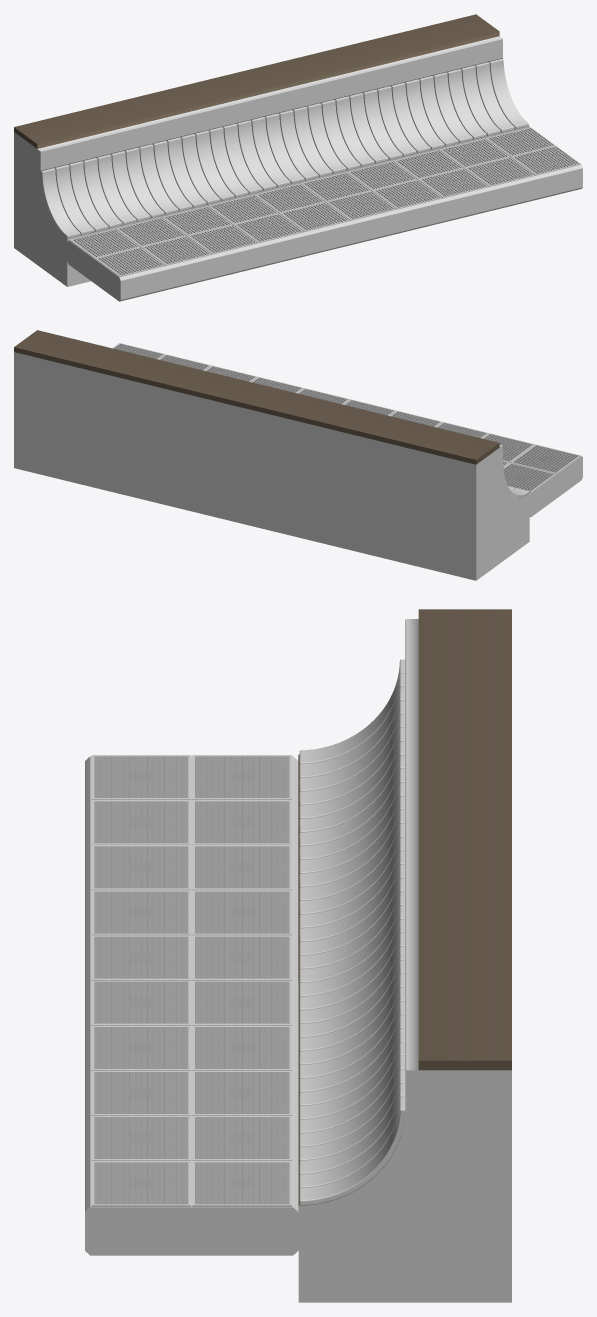
File: Tile_InnerCurve_B.FBX
3 renders of one model, top to bottom at view 1: azimuth 30°, elevation 25°; view 2: azimuth 150°, elevation 25°; view 3: azimuth 270°, elevation 25°, orthographic. The views are drawn at different scales.
Visible parts, largest first — view 1: Tile_InnerCurve_B; view 2: Tile_InnerCurve_B; view 3: Tile_InnerCurve_B.
Boxes of the visible parts, <box> form: Tile_InnerCurve_B: <box>14,14,582,301</box>; Tile_InnerCurve_B: <box>14,330,582,580</box>; Tile_InnerCurve_B: <box>85,609,511,1302</box>.
Size of the model in its own units: 1000 by 400 by 250.
